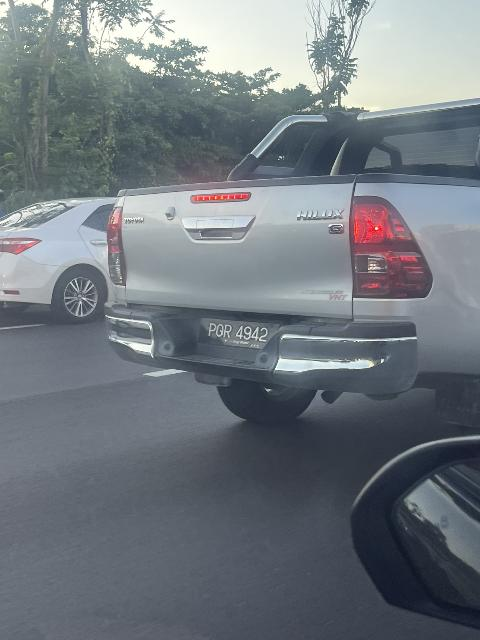License_Plate: (190, 315, 286, 357)
car: (106, 106, 480, 418), (1, 180, 207, 319)
